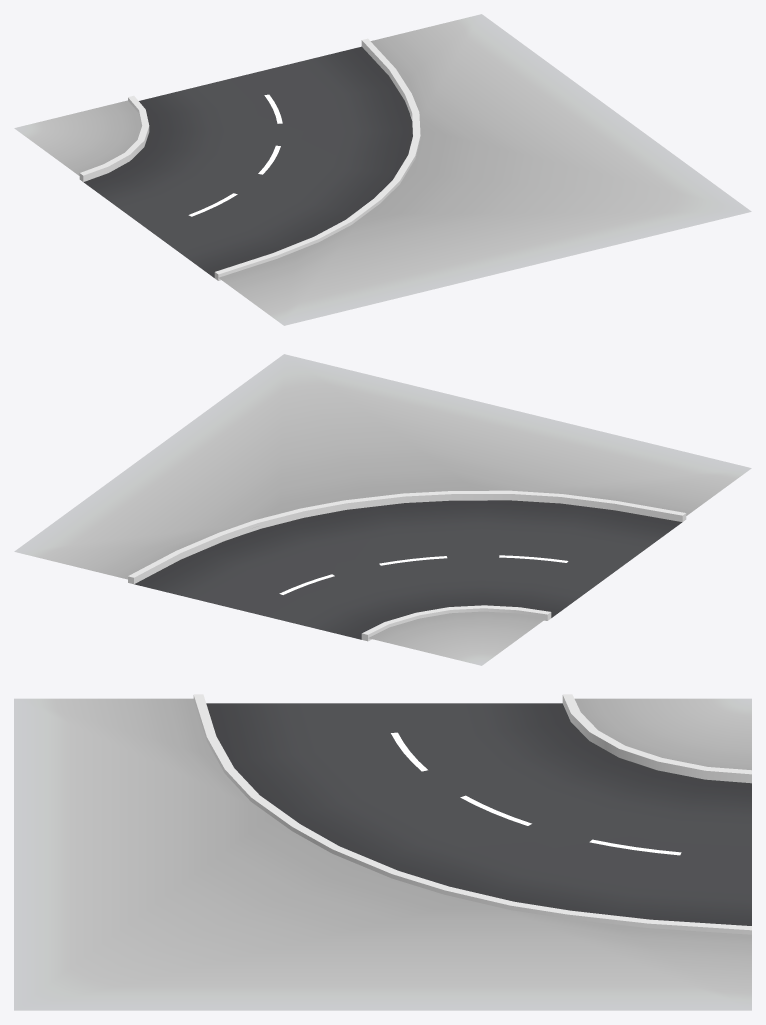
Rendered from city2-road-013.glb.
3 renders of one model, top to bottom at view 1: azimuth 30°, elevation 25°; view 2: azimuth 150°, elevation 25°; view 3: azimuth 270°, elevation 25°, orthographic. The views are drawn at different scales.
Visible parts, largest first — view 1: road_013; view 2: road_013; view 3: road_013.
Boxes of the visible parts, <box> form: road_013: <box>14,14,751,325</box>; road_013: <box>14,354,751,665</box>; road_013: <box>14,694,751,1010</box>.
Size of the model in its own units: 15 by 0.2 by 15.
Materials: 1 (1 with a texture image).
